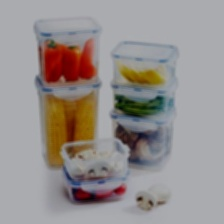plastic_box: (31, 66, 105, 174), (29, 11, 106, 90), (56, 133, 136, 208), (105, 101, 181, 174), (107, 36, 184, 93), (106, 70, 181, 120)
